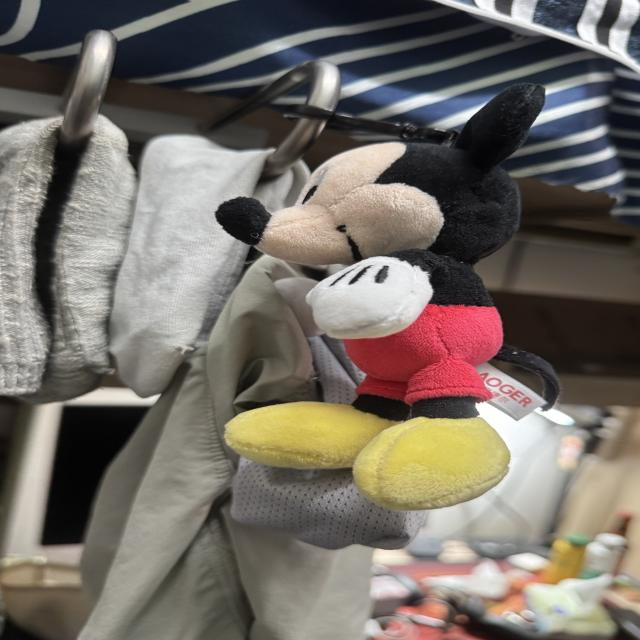mickey: (217, 84, 558, 509)
